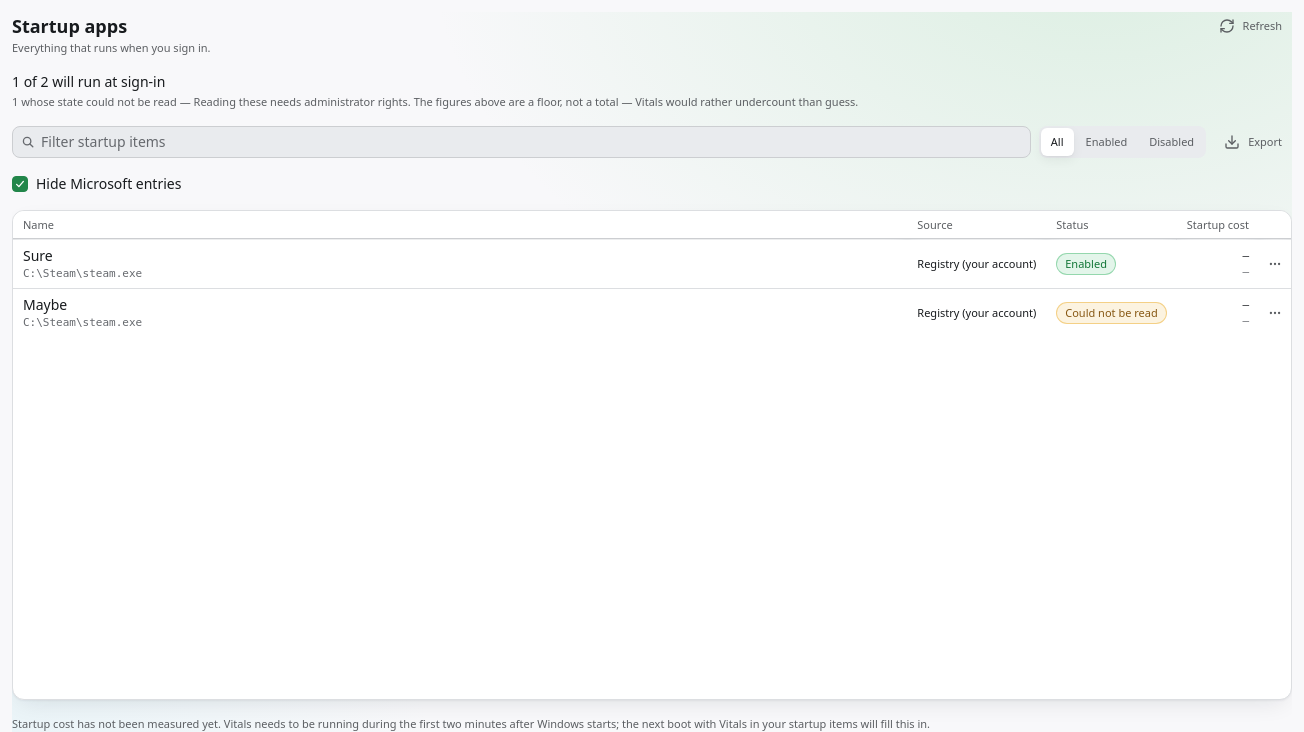
StartupScreen › startup mode › filters to enabled without including unknown
Expected: the heading "Startup apps" is shown, [12,14,127,38]
Click the radio button labelled "Enabled". click: (1106, 142)
box: [1076,128,1137,156]
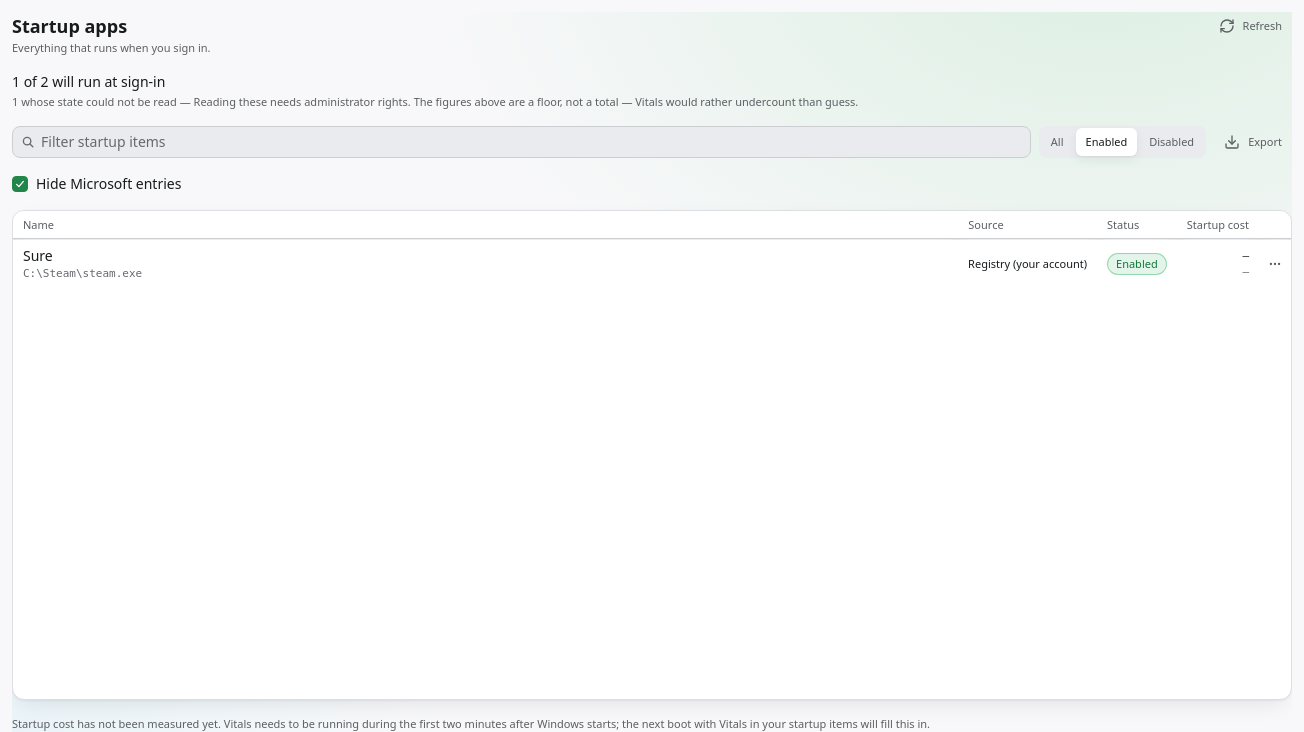
Expected: the text "Sure" is shown, [23,246,53,265]
Expected: the text "Maybe" is gone
